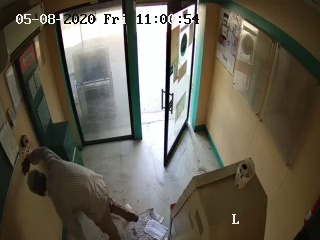open: (120, 4, 200, 170)
